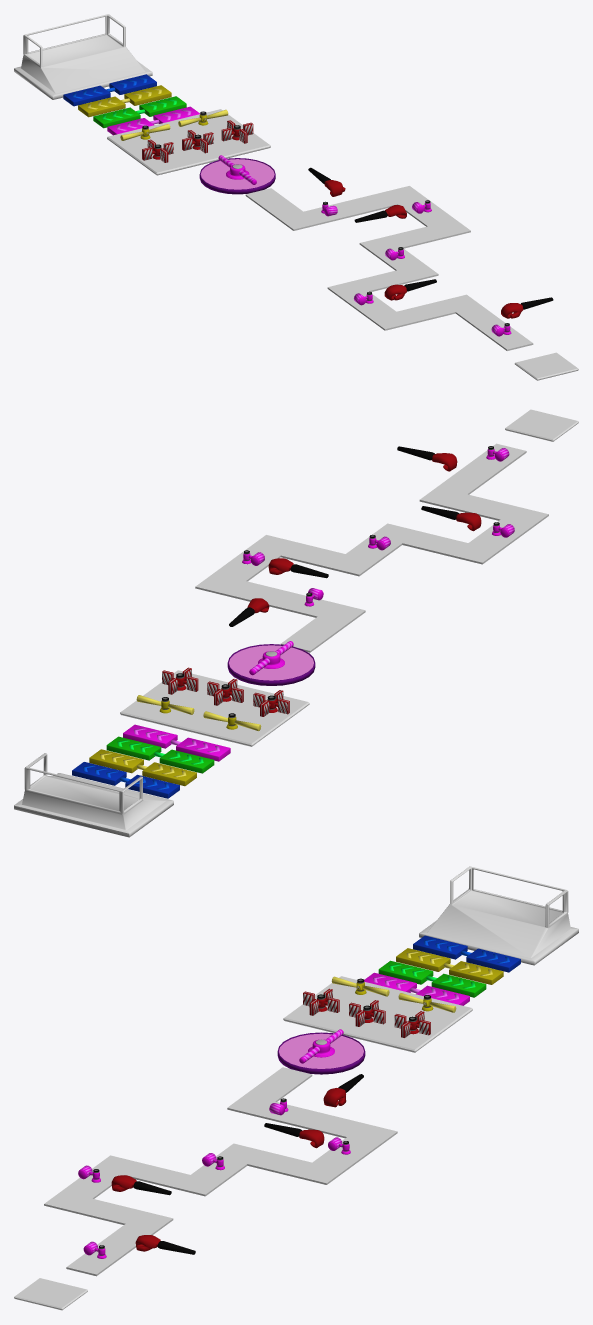
Rendered from map5.fbx.
3 renders of one model, top to bottom at view 1: azimuth 30°, elevation 25°; view 2: azimuth 150°, elevation 25°; view 3: azimuth 330°, elevation 25°, orthographic. The views are drawn at different scales.
Parts seen in each view (by area): view 1: Cube, Cube.185, Cube.200, Cube.201, Cylinder.147, Cylinder.163, Cylinder.164, Cylinder.162, Cube.179, Cylinder.161, Cube.182, Cube.181; view 2: Cube, Cube.185, Cube.200, Cube.201, Cylinder.147, Cylinder.162, Cylinder.163, Cylinder.161, Cylinder.164, Cube.179, Cube.183, Cube.181 (+1 smaller); view 3: Cube, Cube.185, Cube.200, Cube.201, Cylinder.147, Cylinder.164, Cylinder.163, Cylinder.162, Cube.179, Cylinder.161, Cube.182, Cube.181 (+1 smaller).
Part boxes in pixels (<box>): Cube: <box>245,186,533,350</box>; Cube.185: <box>107,109,270,175</box>; Cube.200: <box>14,47,152,99</box>; Cube.201: <box>23,14,125,67</box>; Cylinder.147: <box>199,158,275,194</box>; Cylinder.163: <box>78,85,171,117</box>; Cylinder.164: <box>63,74,156,106</box>; Cylinder.162: <box>93,96,186,128</box>; Cube.179: <box>514,352,578,380</box>; Cylinder.161: <box>107,106,199,135</box>; Cube.182: <box>384,279,436,300</box>; Cube.181: <box>501,297,553,318</box>; Cube: <box>195,443,548,652</box>; Cube.185: <box>120,670,309,746</box>; Cube.200: <box>14,773,173,837</box>; Cube.201: <box>24,753,143,814</box>; Cylinder.147: <box>227,644,315,685</box>; Cylinder.162: <box>106,736,214,773</box>; Cylinder.163: <box>89,749,196,786</box>; Cylinder.161: <box>123,724,230,761</box>; Cylinder.164: <box>72,762,179,798</box>; Cube.179: <box>505,409,578,441</box>; Cube.183: <box>268,558,328,578</box>; Cube.181: <box>397,446,457,471</box>; Cube: <box>44,1067,397,1276</box>; Cube.185: <box>283,976,472,1052</box>; Cube.200: <box>419,904,578,965</box>; Cube.201: <box>450,866,568,928</box>; Cylinder.147: <box>277,1032,365,1074</box>; Cylinder.164: <box>413,935,520,972</box>; Cylinder.163: <box>396,948,503,984</box>; Cylinder.162: <box>378,960,486,997</box>; Cube.179: <box>14,1278,87,1310</box>; Cylinder.161: <box>364,972,469,1005</box>; Cube.182: <box>111,1175,171,1195</box>; Cube.181: <box>135,1235,195,1254</box>.
Size of the model in its own units: 1428 by 7129 by 31981.
